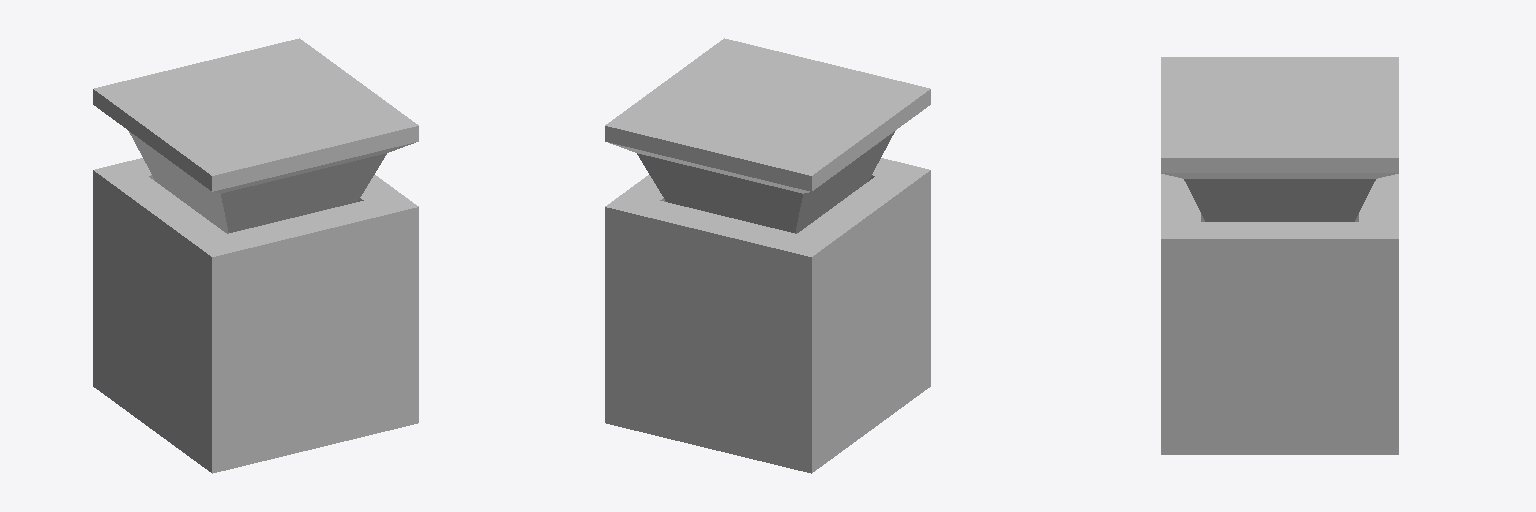
Rendered from AnimatedBox_000180.obj.
3 views of the same model, side by side, from view 1: azimuth 30°, elevation 25°; view 2: azimuth 150°, elevation 25°; view 3: azimuth 270°, elevation 25° (orthographic).
Parts seen in each view (by area): view 1: Cube, Cube.001; view 2: Cube, Cube.001; view 3: Cube, Cube.001.
Boxes of the visible parts, <box> form: Cube: <box>93,158,418,473</box>; Cube.001: <box>93,38,418,233</box>; Cube: <box>605,158,930,473</box>; Cube.001: <box>605,38,930,233</box>; Cube: <box>1161,174,1398,454</box>; Cube.001: <box>1161,57,1398,221</box>.
Bounding box in the file's own units: 2 × 2.75 × 2.